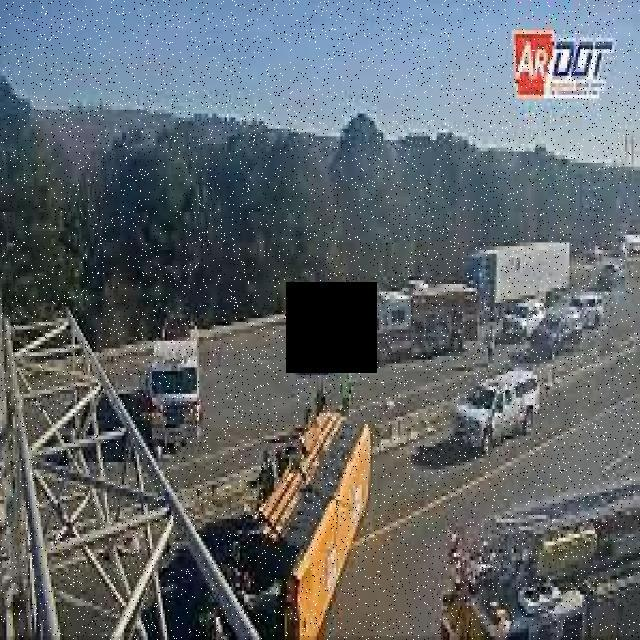severe: (215, 390, 382, 640)
